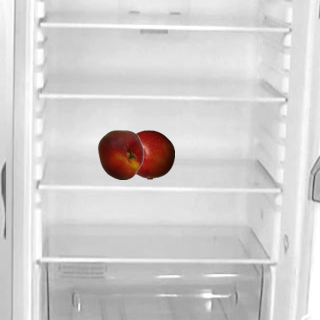Apple Braeburn: (124, 129, 174, 179)
Nectarine Flat: (95, 129, 145, 179)
